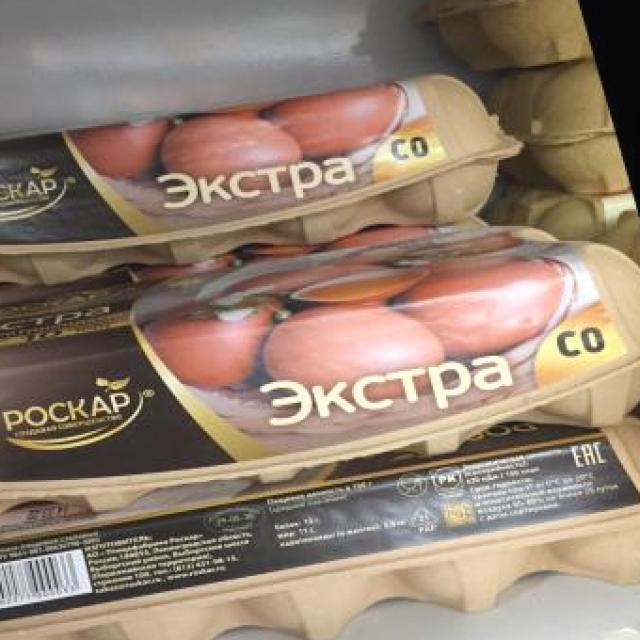Eggs: (0, 195, 640, 542), (0, 51, 548, 320)
